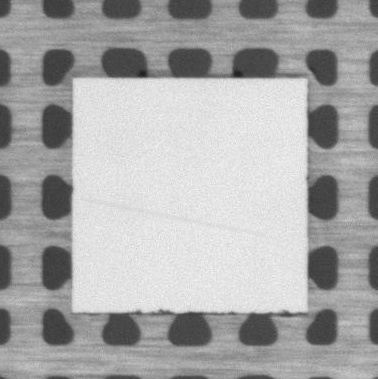DIE_CRACK: (82, 200, 263, 236)
